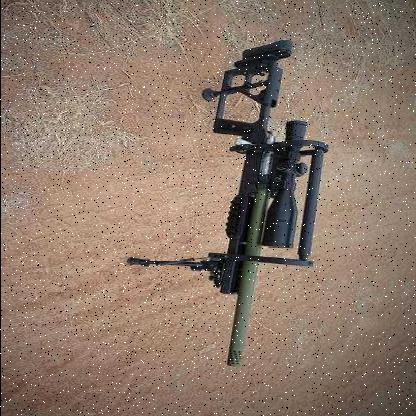rifle: (123, 31, 332, 375)
